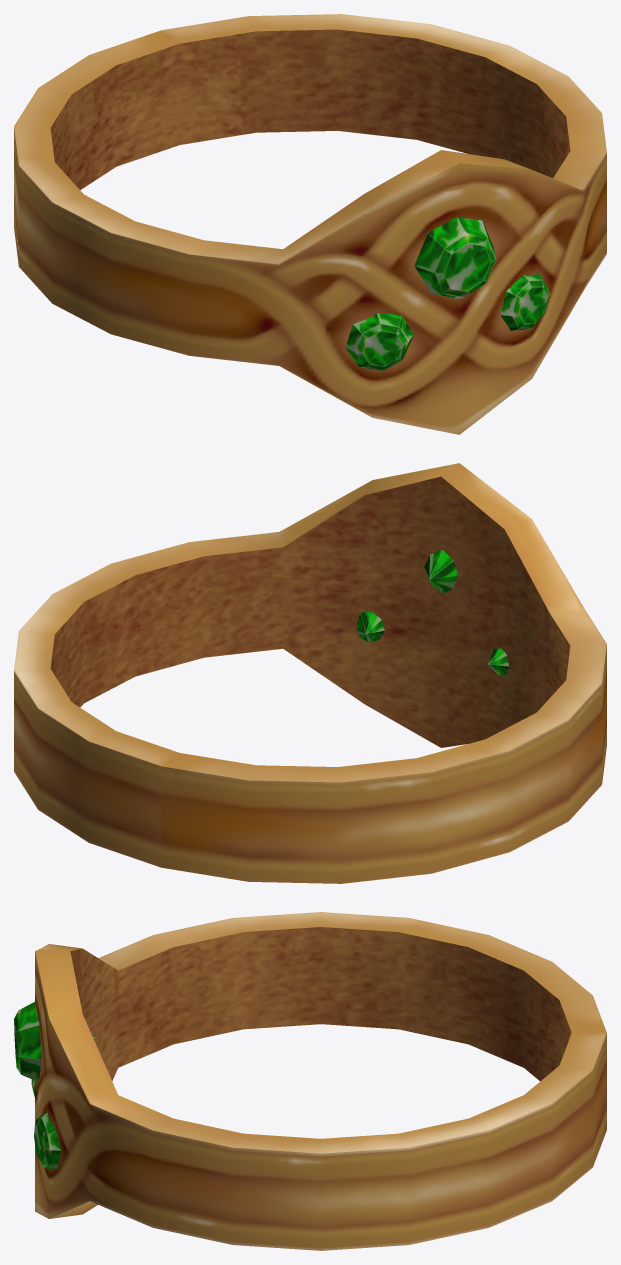
The model's file is ring_copper_09.fbx.
3 views of the same model, one above another, from view 1: azimuth 30°, elevation 25°; view 2: azimuth 150°, elevation 25°; view 3: azimuth 270°, elevation 25° (orthographic). The views are drawn at different scales.
Visible parts, largest first — view 1: ring_copper_09; view 2: ring_copper_09; view 3: ring_copper_09.
Part boxes in pixels (x1,y1,x2,y2): ring_copper_09: (14, 14, 606, 434); ring_copper_09: (14, 463, 606, 883); ring_copper_09: (14, 912, 606, 1250).
Bounding box in the file's own units: 2.04 × 1.03 × 2.12.
